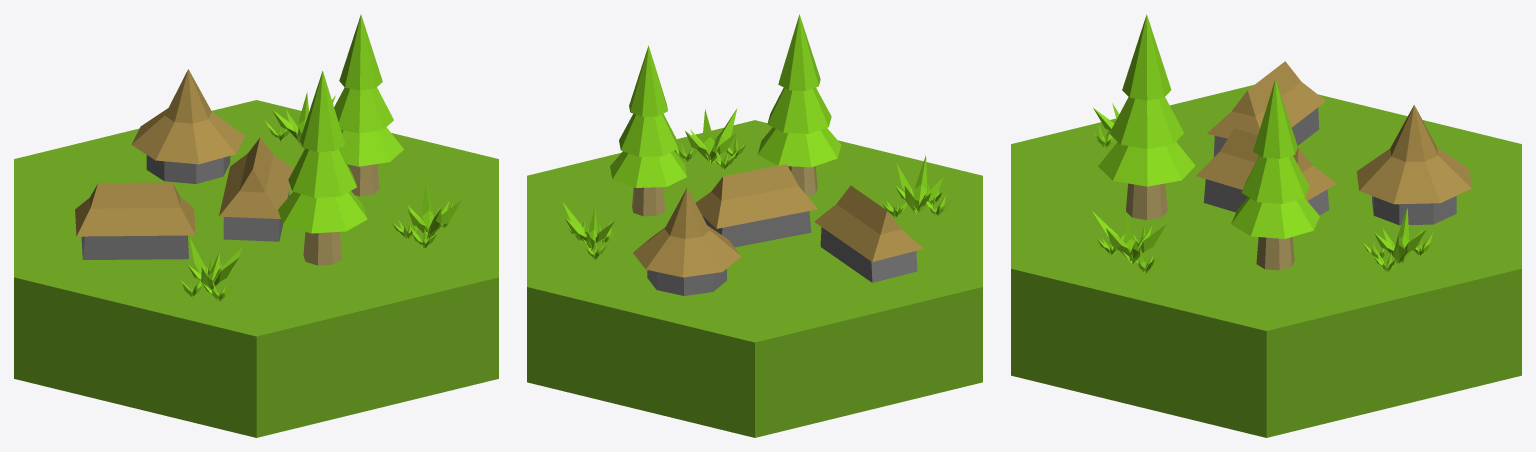
File: Casas_Pinos_Bajos_3.fbx
3 views of the same model, side by side, from view 1: azimuth 30°, elevation 25°; view 2: azimuth 150°, elevation 25°; view 3: azimuth 270°, elevation 25° (orthographic). The views are drawn at different scales.
Visible parts, largest first — view 1: Casas_Pinos_Bajos_3; view 2: Casas_Pinos_Bajos_3; view 3: Casas_Pinos_Bajos_3.
Boxes of the visible parts, bbox=[...] form: Casas_Pinos_Bajos_3: bbox=[14, 14, 498, 437]; Casas_Pinos_Bajos_3: bbox=[527, 14, 982, 437]; Casas_Pinos_Bajos_3: bbox=[1011, 14, 1521, 437].
Bounding box in the file's own units: 200 × 114 × 173.
